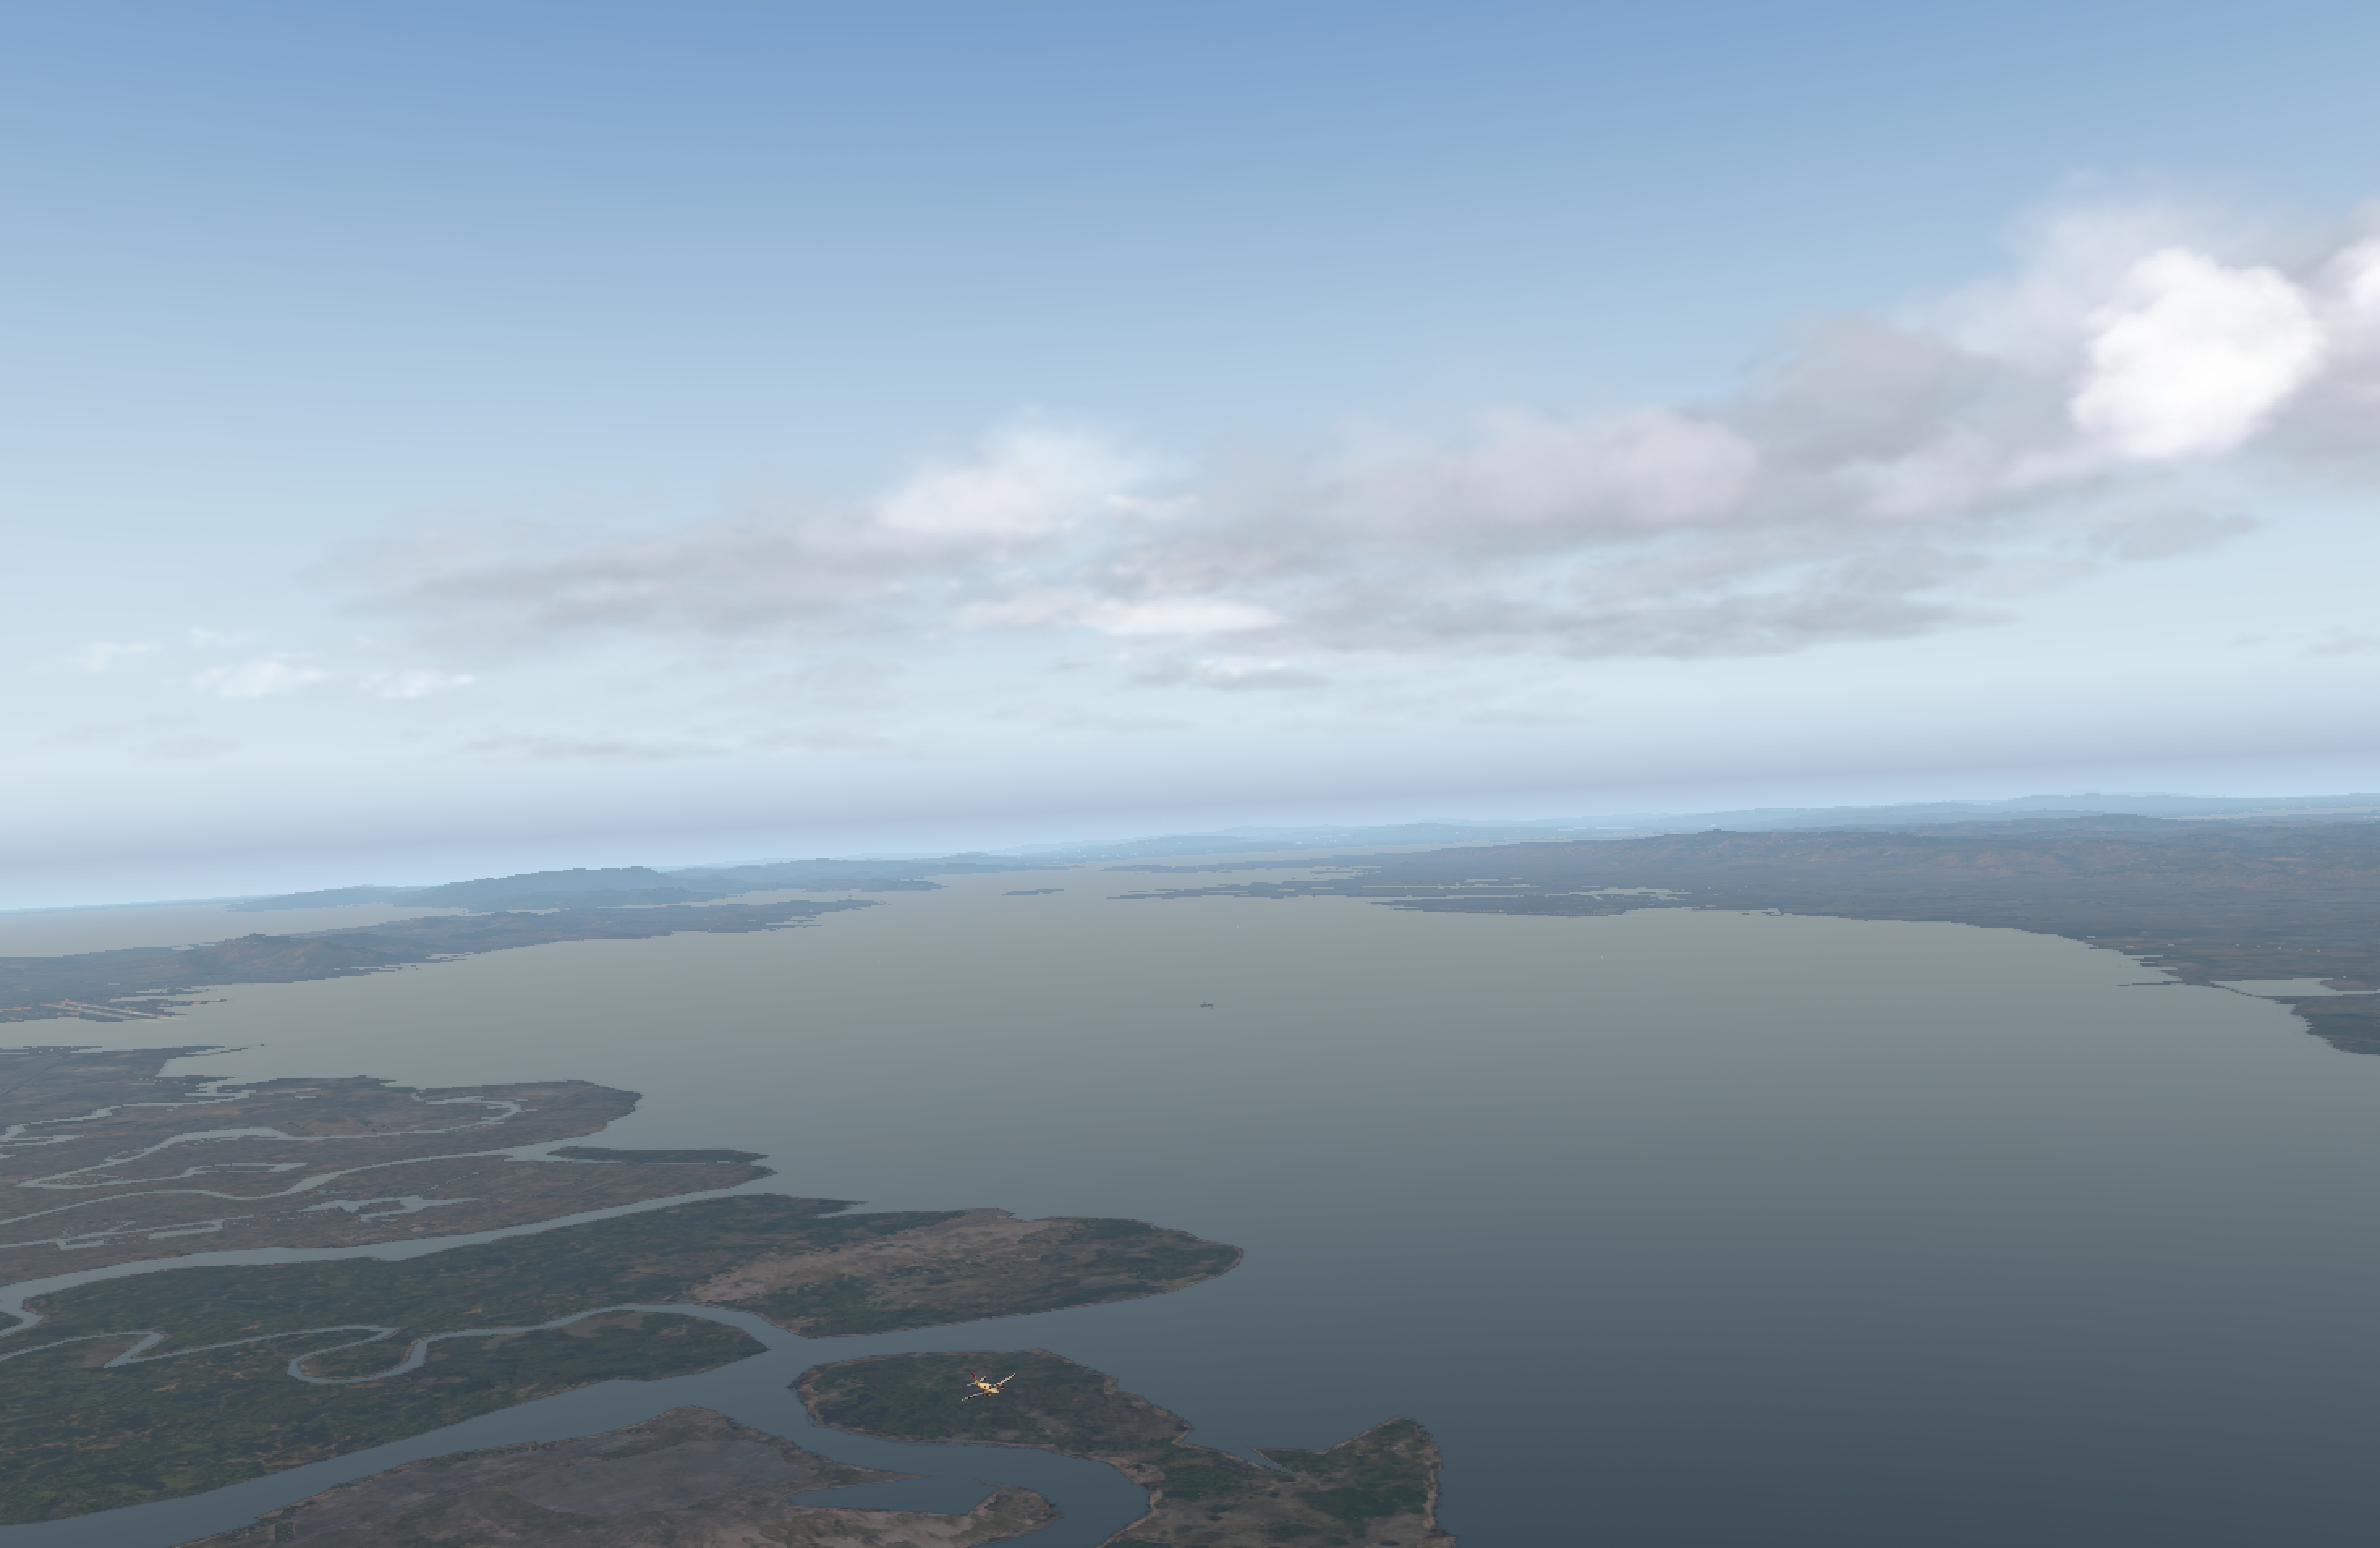aircraft: (959, 1380, 1023, 1402)
